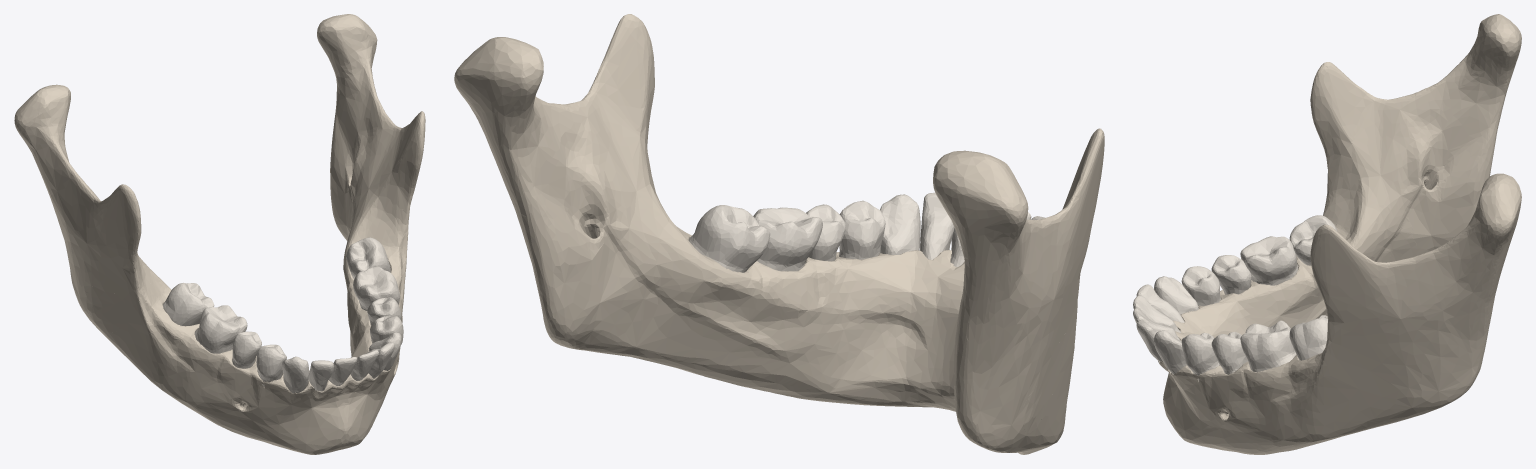
File: okc.glb
3 views of the same model, side by side, from view 1: azimuth 30°, elevation 25°; view 2: azimuth 150°, elevation 25°; view 3: azimuth 270°, elevation 25° (orthographic). The views are drawn at different scales.
Visible parts, largest first — view 1: bone, teeth, removed_bone; view 2: bone, teeth, removed_bone; view 3: bone, teeth, removed_bone.
Boxes of the visible parts, x1,y1,x2,y2 form: bone: (14, 14, 425, 454); teeth: (162, 237, 403, 393); removed_bone: (84, 282, 160, 332); bone: (454, 14, 1104, 454); teeth: (688, 192, 1045, 272); removed_bone: (1021, 333, 1066, 433); bone: (1158, 14, 1521, 454); teeth: (1133, 215, 1337, 380); removed_bone: (1336, 210, 1417, 262).
Size of the model in its own units: 0.103 by 0.0817 by 0.0866.
